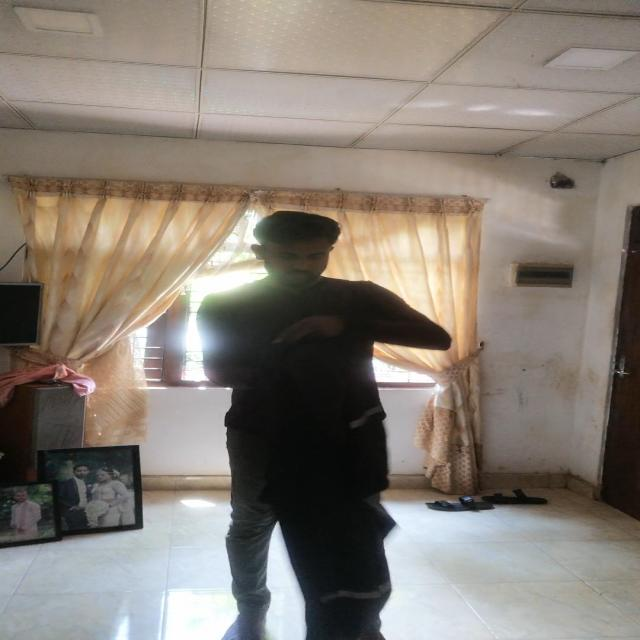Person: (202, 203, 448, 640)
